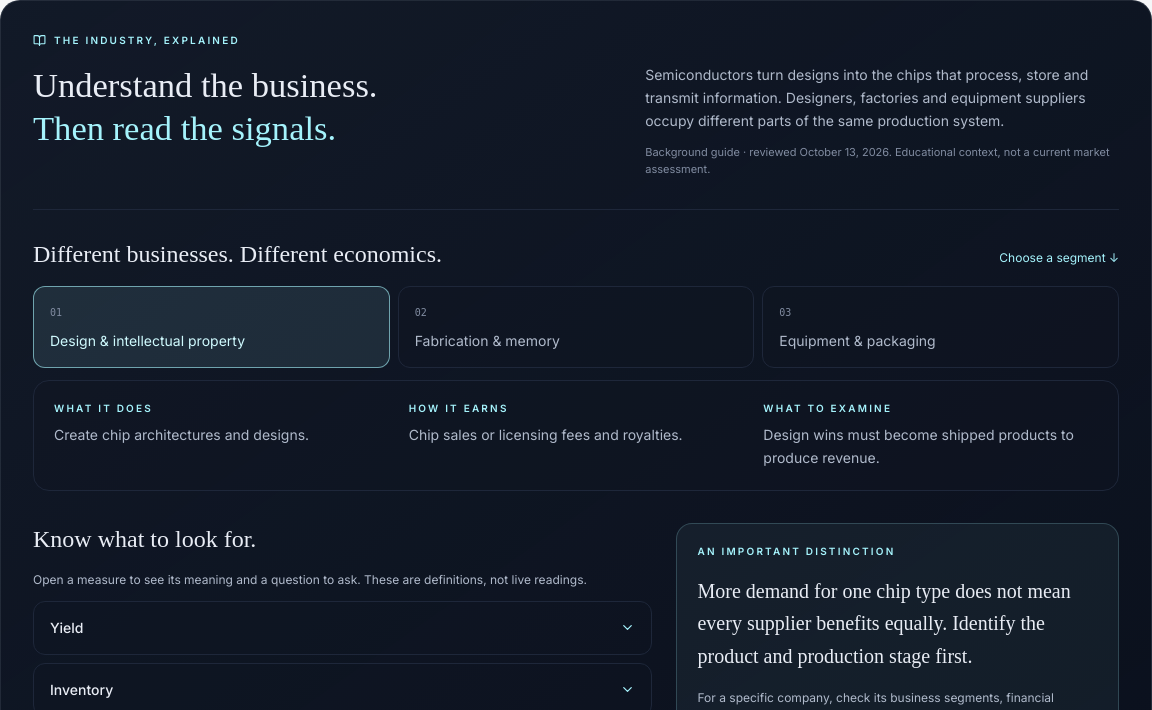
Test: provides a usable distinct guide for semiconductors even without reporting
Click the button "02 Fabrication & memory": (487, 341) [398, 286, 754, 368]
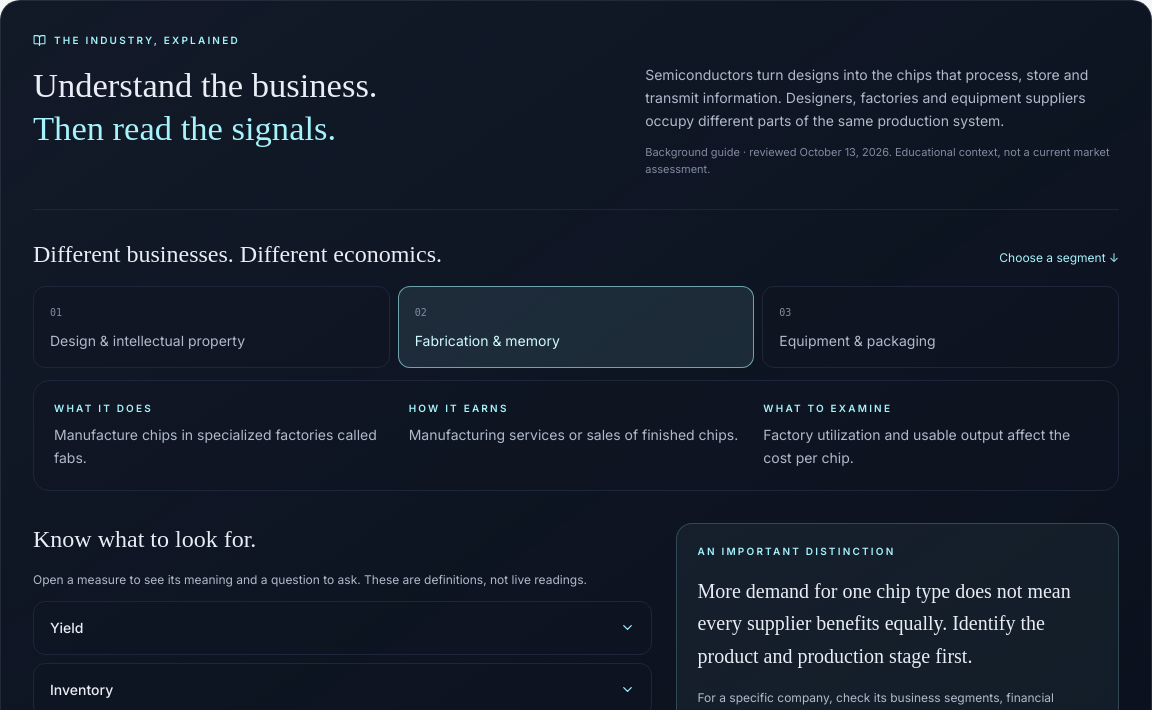
Expected: the text "definitions, not live readings" is shown, [33, 572, 587, 587]
Expected: the text "Manufacturing services or sales of finished chips." is shown, [409, 424, 743, 447]
Expected: the text "Chip sales or licensing fees and royalties." is gone
